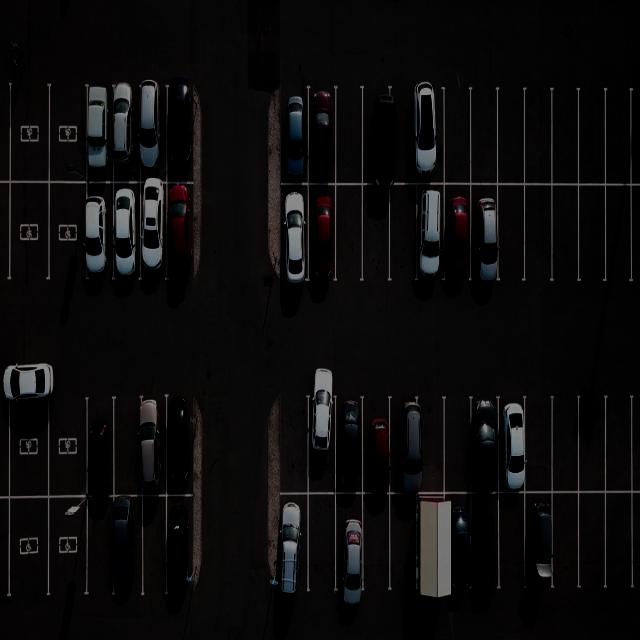empty: (3, 382, 48, 498), (48, 388, 90, 497), (5, 498, 48, 602), (48, 180, 88, 287), (8, 182, 48, 286), (410, 494, 448, 600), (305, 494, 342, 602), (49, 82, 88, 184), (113, 396, 152, 496), (492, 492, 529, 597), (546, 492, 584, 594), (603, 492, 640, 593), (572, 492, 608, 593), (358, 496, 393, 598), (12, 84, 49, 178), (278, 395, 312, 497), (333, 85, 368, 184), (604, 182, 637, 287), (604, 395, 639, 494), (574, 397, 609, 496), (438, 398, 474, 494), (524, 184, 558, 283), (523, 398, 558, 494), (573, 183, 606, 284), (82, 497, 115, 597), (549, 395, 583, 492), (388, 185, 422, 282), (386, 496, 419, 594), (550, 182, 582, 282), (414, 402, 448, 496), (139, 497, 170, 600), (494, 183, 526, 282), (358, 186, 391, 282), (334, 185, 366, 283), (524, 90, 557, 184), (439, 90, 471, 186), (605, 89, 637, 184), (574, 89, 606, 184), (549, 91, 581, 185), (494, 91, 525, 186), (470, 90, 500, 184)
occupied: (430, 495, 473, 603), (47, 494, 90, 597), (466, 491, 504, 594), (332, 489, 368, 597), (165, 181, 203, 282), (110, 497, 147, 598), (361, 85, 399, 183), (308, 394, 344, 497), (523, 488, 559, 590), (130, 396, 167, 495), (467, 400, 505, 496), (390, 401, 428, 497), (306, 184, 341, 287), (469, 182, 504, 284), (278, 495, 311, 603), (165, 496, 199, 599), (438, 182, 472, 284), (82, 398, 116, 500), (332, 396, 368, 492), (79, 180, 111, 287), (359, 398, 395, 493), (493, 398, 529, 492), (112, 181, 144, 286), (137, 180, 169, 285), (412, 88, 446, 185), (165, 397, 199, 494), (282, 181, 312, 288), (415, 184, 447, 284), (308, 87, 340, 186), (135, 80, 167, 178), (84, 85, 112, 184), (283, 89, 311, 186), (168, 86, 196, 183), (113, 83, 140, 178)
